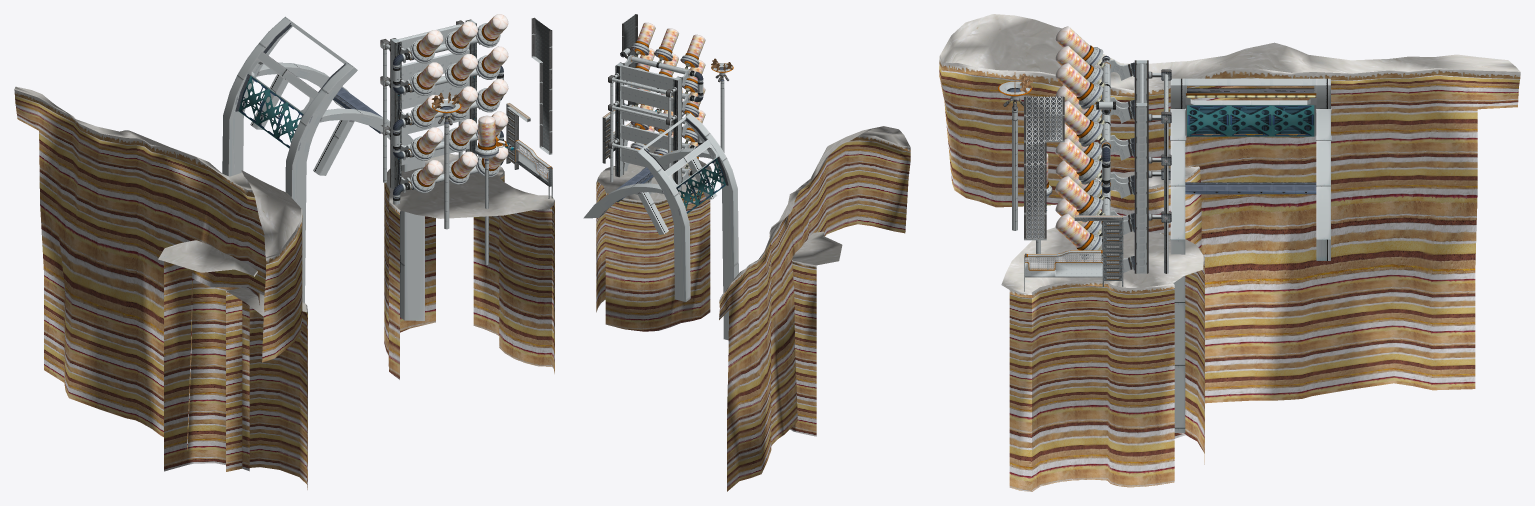
Rendered from stg220_19.obj.
The picture shows the model from 3 angles, left to right: view 1: azimuth 30°, elevation 25°; view 2: azimuth 150°, elevation 25°; view 3: azimuth 270°, elevation 25°; orthographic projection. The views are drawn at different scales.
Parts seen in each view (by area): view 1: polygon11, polygon2, polygon4, polygon7, polygon221, polygon223, polygon1, polygon9, polygon218, polygon10, polygon3, polygon222 (+10 smaller); view 2: polygon11, polygon2, polygon223, polygon4, polygon221, polygon218, polygon9, polygon64, polygon1, polygon3, polygon222, polygon73 (+7 smaller); view 3: polygon11, polygon2, polygon9, polygon221, polygon1, polygon10, polygon222, polygon214, polygon57, polygon213, polygon56, polygon4 (+16 smaller).
Boxes of the visible parts, <box> form: polygon11: <box>15,95,302,449</box>; polygon2: <box>384,176,554,379</box>; polygon4: <box>164,261,259,471</box>; polygon7: <box>226,294,307,489</box>; polygon221: <box>222,16,424,320</box>; polygon223: <box>228,21,413,302</box>; polygon1: <box>387,153,553,218</box>; polygon9: <box>14,86,301,257</box>; polygon218: <box>399,24,469,164</box>; polygon10: <box>14,89,302,263</box>; polygon3: <box>158,240,256,275</box>; polygon222: <box>238,76,303,148</box>; polygon11: <box>719,140,910,491</box>; polygon2: <box>596,182,710,331</box>; polygon223: <box>583,116,733,340</box>; polygon4: <box>790,263,816,436</box>; polygon221: <box>599,113,738,301</box>; polygon218: <box>621,65,675,170</box>; polygon9: <box>720,126,910,297</box>; polygon64: <box>610,74,675,182</box>; polygon1: <box>597,142,712,200</box>; polygon3: <box>792,231,842,265</box>; polygon222: <box>676,158,725,213</box>; polygon73: <box>621,47,703,185</box>; polygon11: <box>939,64,1519,403</box>; polygon2: <box>1009,261,1204,491</box>; polygon9: <box>940,14,1520,90</box>; polygon221: <box>1170,78,1330,432</box>; polygon1: <box>1002,227,1203,292</box>; polygon10: <box>939,55,1520,96</box>; polygon222: <box>1187,105,1314,136</box>; polygon214: <box>1113,60,1145,273</box>; polygon57: <box>1025,96,1063,238</box>; polygon213: <box>1100,59,1148,273</box>; polygon56: <box>1026,96,1062,238</box>; polygon4: <box>1100,171,1201,438</box>.
Bounding box in the file's own units: 3215 × 3975 × 4190.
Materials: 50 (50 with a texture image).
